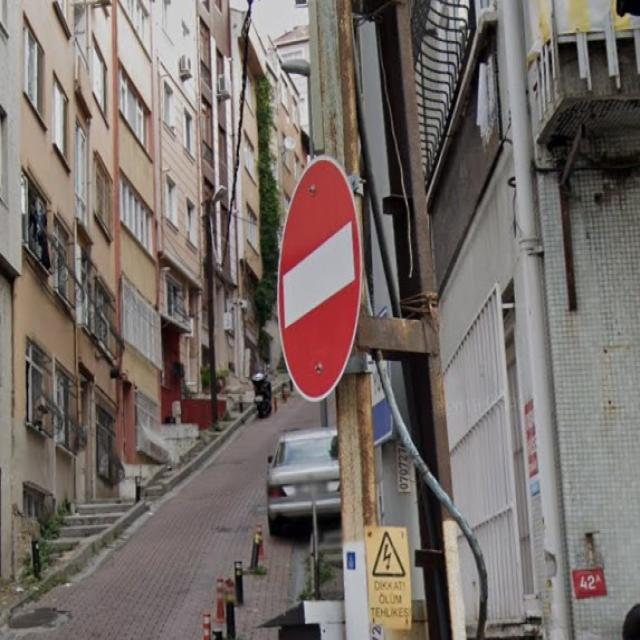girisyok: (278, 153, 361, 404)
